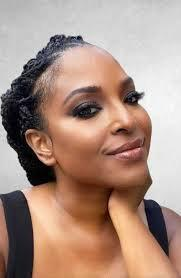Sober: (54, 54, 152, 184)
